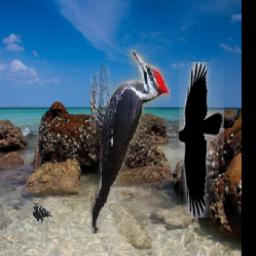Crow: (179, 63, 224, 219), (33, 201, 53, 223)
Woodpecker: (90, 49, 171, 234)
